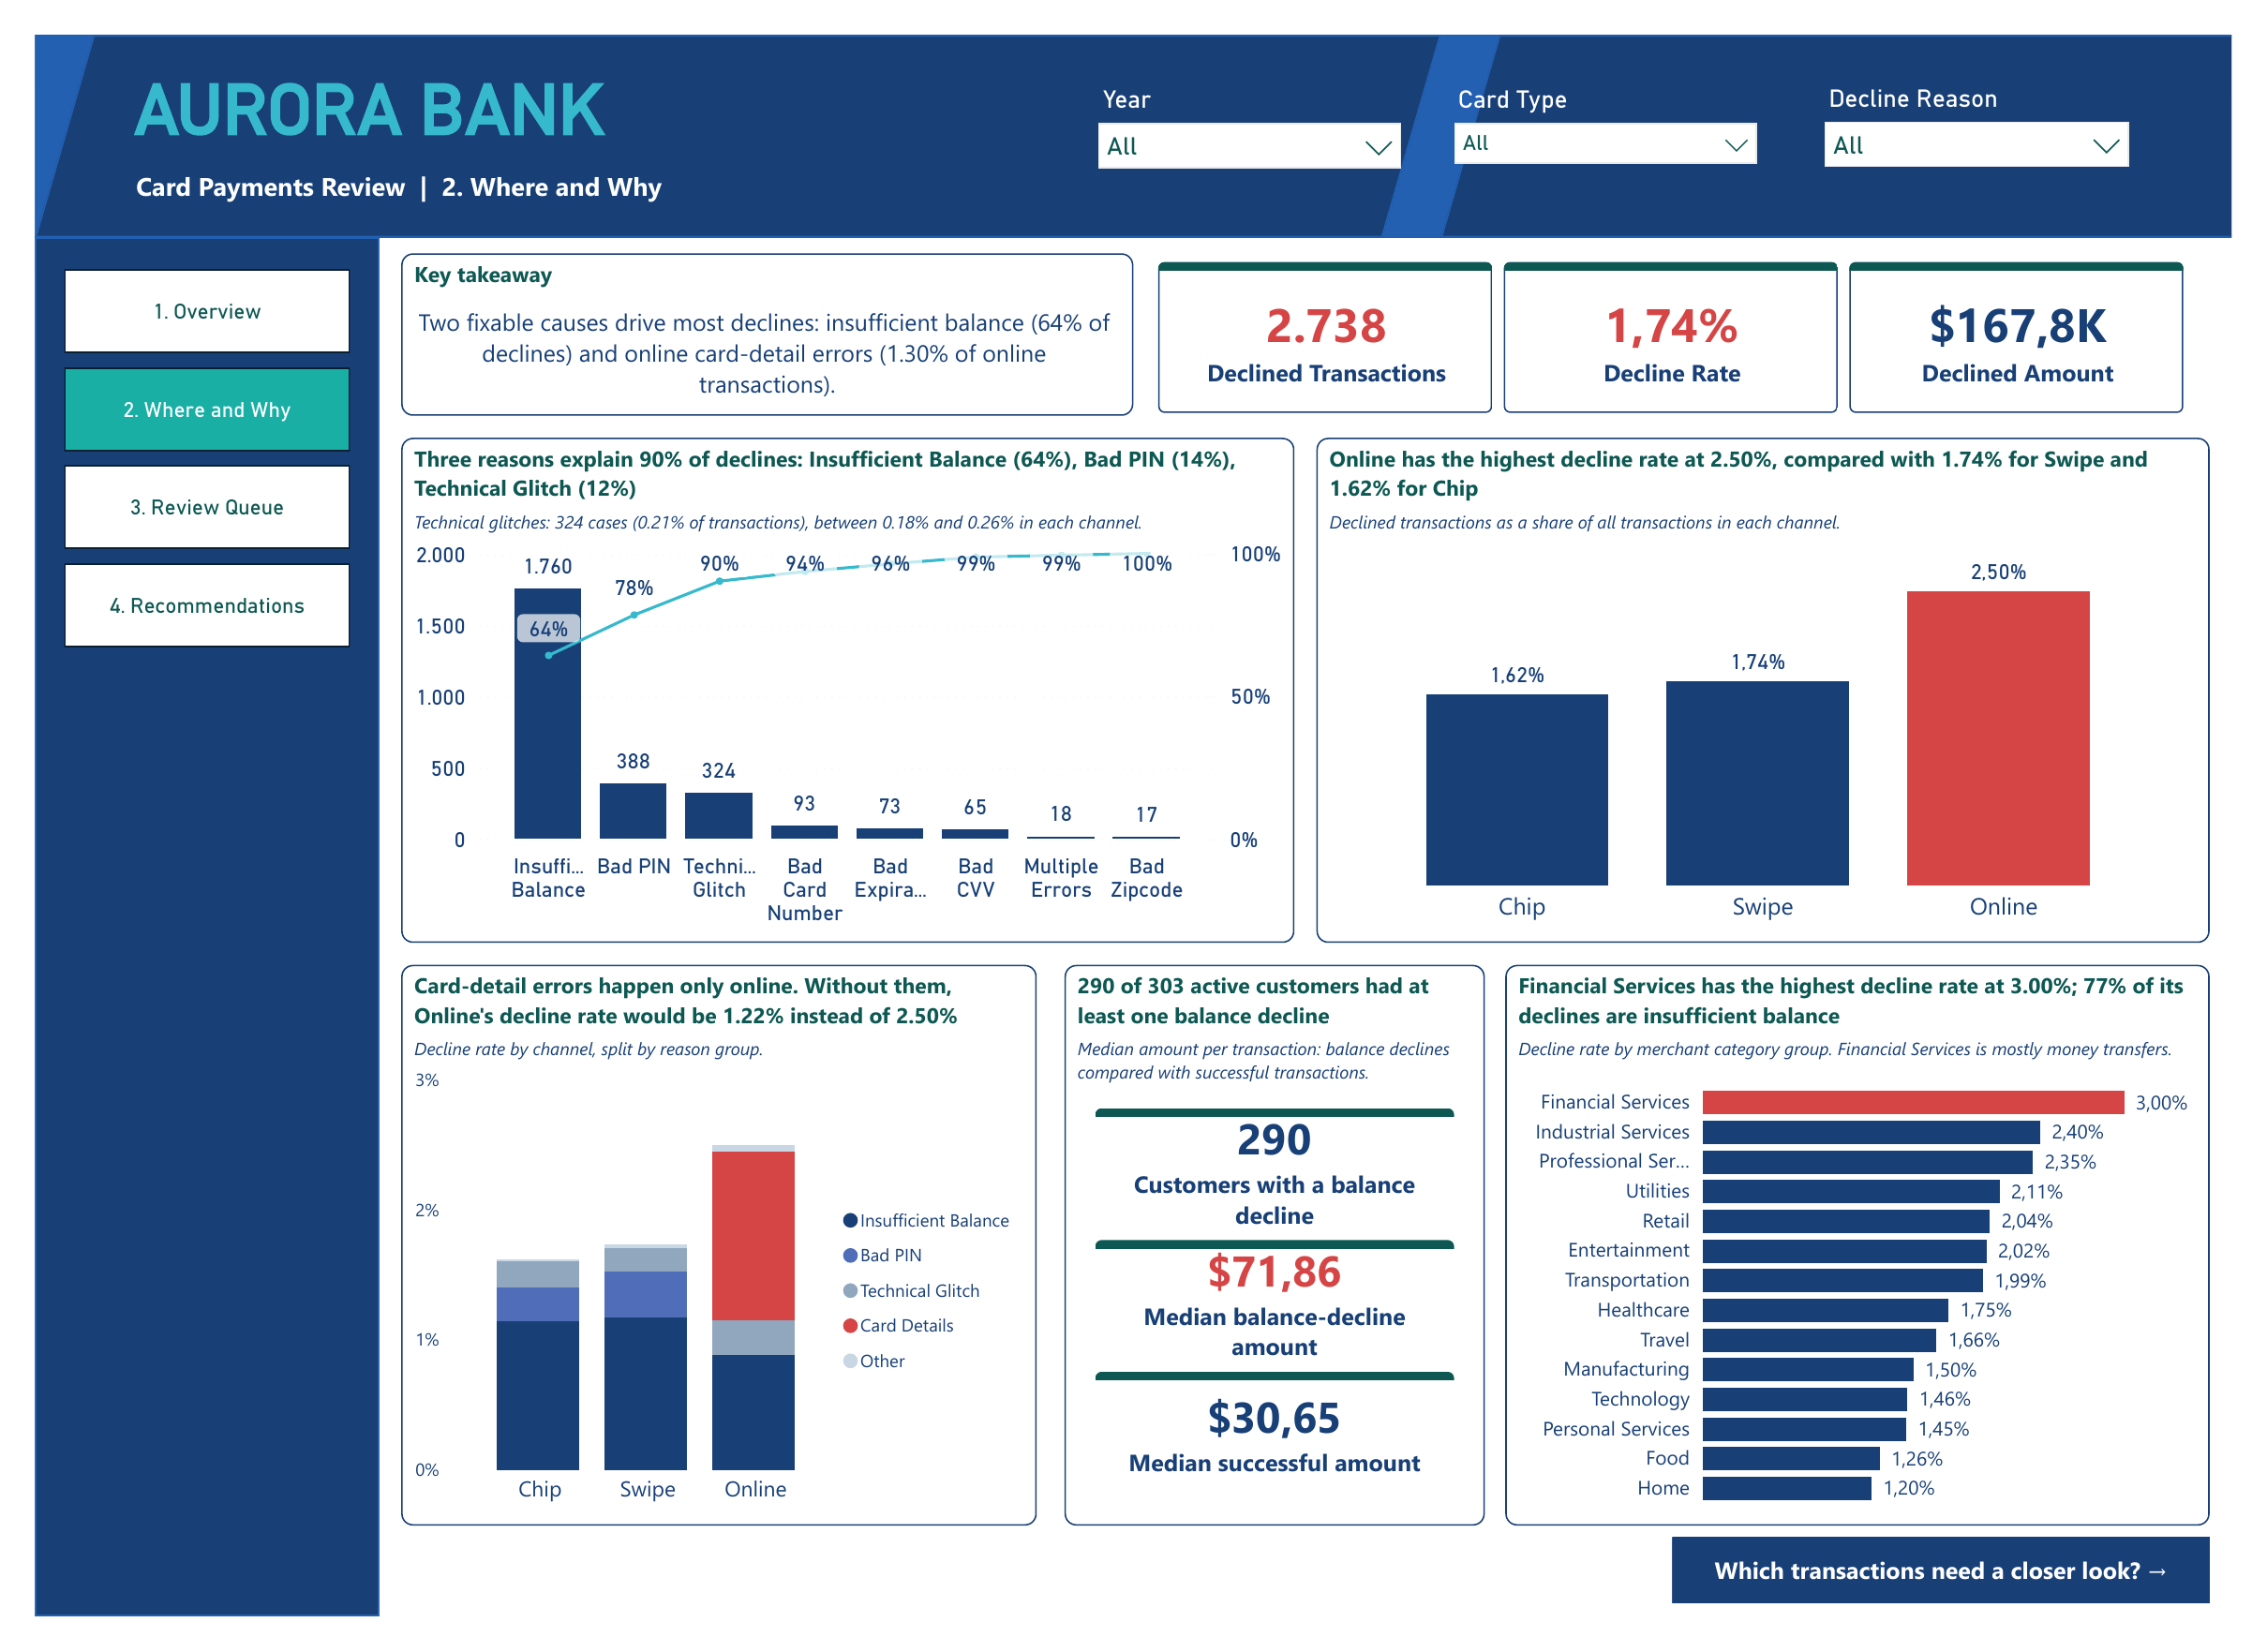

Layout of this report page (visuals, bound fields, positions):
{"tool":"powerbi","page":{"name":"2. Where and Why","canvas":[1500,1080],"ordinal":1},"visuals":[{"type":"shape","box":[0,0,1920,137.8],"z":0},{"type":"shape","box":[0,0,960,137.5],"z":1000},{"type":"shape","box":[960,0,960,137.5],"z":2000},{"type":"textbox","box":[62.5,18,345,67.5],"z":3000},{"type":"textbox","box":[64,86,600,34],"z":4000},{"type":"shape","box":[0,137.5,235,942.5],"z":5000},{"type":"pageNavigator","box":[20,160,195,260],"z":6000},{"type":"group","id":"g1","title":"Group 1","box":[716,28,724,74],"z":7000},{"type":"cardVisual","fields":{"Data":["_Measures.Declined Transactions","_Measures.Decline Rate","_Measures.Declined Amount"]},"box":[750,137.5,735,137.5],"z":8000},{"type":"lineClusteredColumnComboChart","fields":{"Category":["dim_error.Error Type"],"Y":["_Measures.Declined Transactions"],"Y2":["_Measures.Cumulative Decline Share"]},"box":[250,275,610,345],"z":9000},{"type":"columnChart","fields":{"Category":["transactions_data.Channel"],"Y":["_Measures.Decline Rate"]},"box":[875,275,610,345],"z":10000},{"type":"columnChart","fields":{"Category":["fact_transactions_data.Channel"],"Series":["dim_error.Decline Reason Group"],"Y":["_Measures.Decline Rate"]},"box":[250,635,433.8,382.5],"z":11000},{"type":"cardVisual","fields":{"Data":["_Measures.Balance Decline Customers","_Measures.Median Balance Decline Amount","_Measures.Median Successful Amount"]},"box":[702.5,635,287.5,382.5],"z":12000},{"type":"clusteredBarChart","fields":{"Category":["dim_mcc_codes.MCC Group"],"Y":["_Measures.Decline Rate"]},"box":[1003.8,635,481.2,382.5],"z":13000},{"type":"actionButton","box":[1117.5,1026.2,367.5,45],"z":14000},{"type":"card","title":"Key takeaway","fields":{"Values":["_Measures.Page Summary Where and Why"]},"box":[250,149,500,111],"z":15000},{"type":"slicer","fields":{"Values":["cards_data.card_type"]},"box":[958.9,28.6,227.1,74.3],"z":16000,"group":"g1"},{"type":"slicer","fields":{"Values":["dim_error.Error Type"]},"box":[1211.7,28,228,74],"z":17000,"group":"g1"},{"type":"slicer","fields":{"Values":["dim_date.Year"]},"box":[716,28.6,227.1,74.3],"z":18000,"group":"g1"}]}

Visuals, with their boxes on the page's 1500x1080 design canvas (x1, y1, x2, y2). These are canvas units, not pixel positions in the 2267x1652 screenshot, which may show the page scaled, cropped or inside an application window:
shape: x1=0, y1=0, x2=1920, y2=138
shape: x1=0, y1=0, x2=960, y2=138
shape: x1=960, y1=0, x2=1920, y2=138
textbox: x1=62, y1=18, x2=408, y2=86
textbox: x1=64, y1=86, x2=664, y2=120
shape: x1=0, y1=138, x2=235, y2=1080
pageNavigator: x1=20, y1=160, x2=215, y2=420
"Group 1" group: x1=716, y1=28, x2=1440, y2=102
cardVisual - _Measures.Declined Transactions x _Measures.Decline Rate: x1=750, y1=138, x2=1485, y2=275
lineClusteredColumnComboChart - dim_error.Error Type x _Measures.Declined Transactions: x1=250, y1=275, x2=860, y2=620
columnChart - transactions_data.Channel x _Measures.Decline Rate: x1=875, y1=275, x2=1485, y2=620
columnChart - fact_transactions_data.Channel x dim_error.Decline Reason Group: x1=250, y1=635, x2=684, y2=1018
cardVisual - _Measures.Balance Decline Customers x _Measures.Median Balance Decline Amount: x1=702, y1=635, x2=990, y2=1018
clusteredBarChart - dim_mcc_codes.MCC Group x _Measures.Decline Rate: x1=1004, y1=635, x2=1485, y2=1018
actionButton: x1=1118, y1=1026, x2=1485, y2=1071
"Key takeaway" card: x1=250, y1=149, x2=750, y2=260
slicer - cards_data.card_type: x1=959, y1=29, x2=1186, y2=103
slicer - dim_error.Error Type: x1=1212, y1=28, x2=1440, y2=102
slicer - dim_date.Year: x1=716, y1=29, x2=943, y2=103
